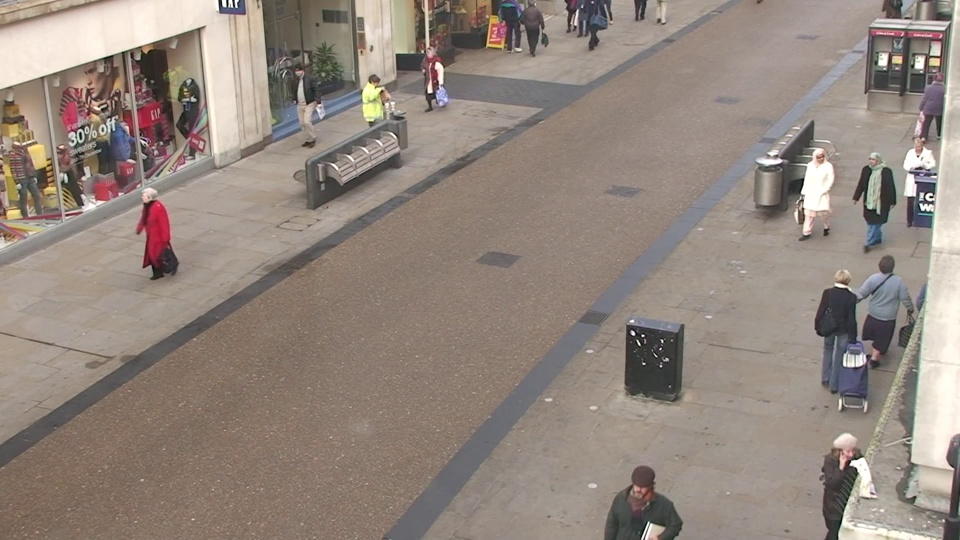pedestrian: (811, 421, 876, 540), (855, 250, 909, 383), (813, 262, 865, 397), (131, 182, 177, 293), (891, 134, 938, 238), (610, 460, 670, 540), (850, 149, 894, 255), (798, 144, 838, 248), (912, 67, 956, 156), (361, 71, 391, 154), (287, 60, 317, 139), (419, 44, 446, 119)
